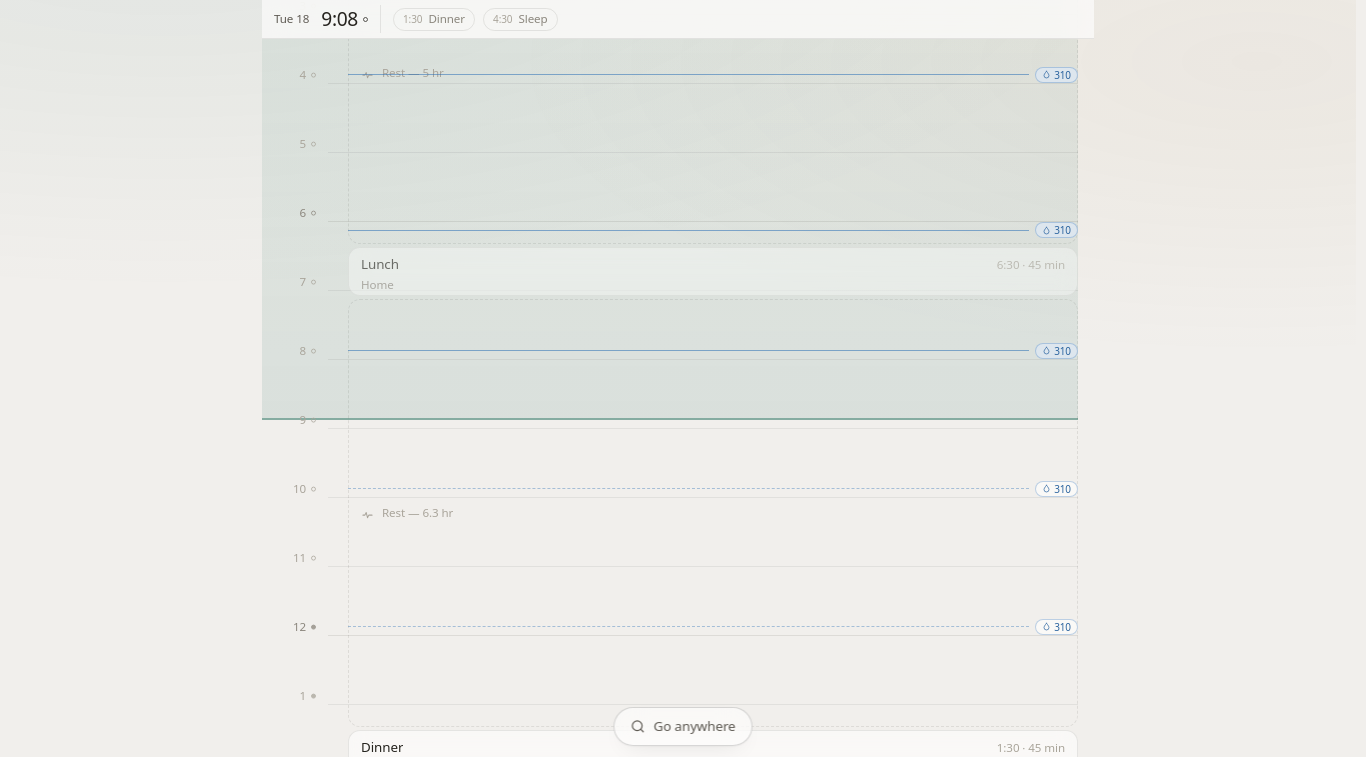
Test: nothing steals focus › still takes keys once you have opened it yourself
(page scrolled)
Click the button "Go anywhere": (683, 726) [614, 707, 753, 746]
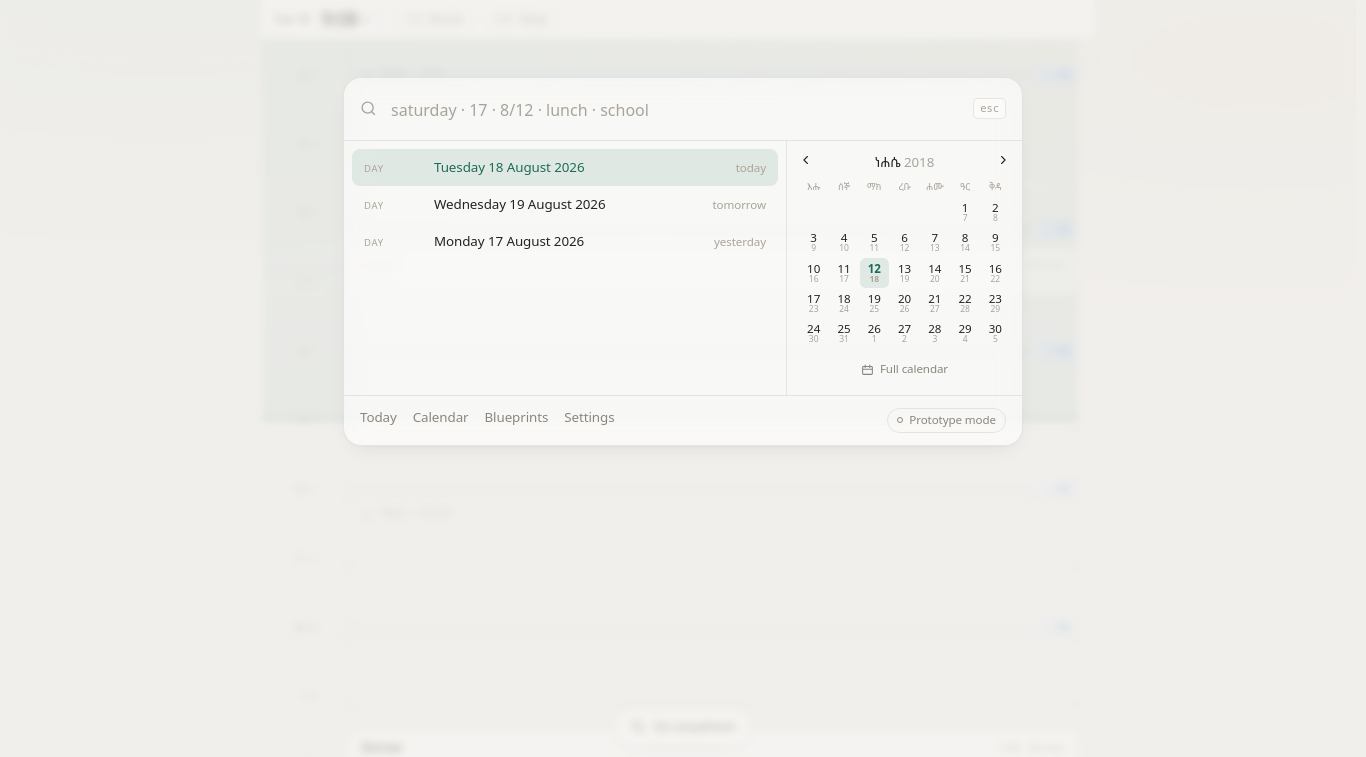
expect the dialog with class "go-panel" is shown: met, box [343, 77, 1023, 446]
Press Escape
(page scrolled)
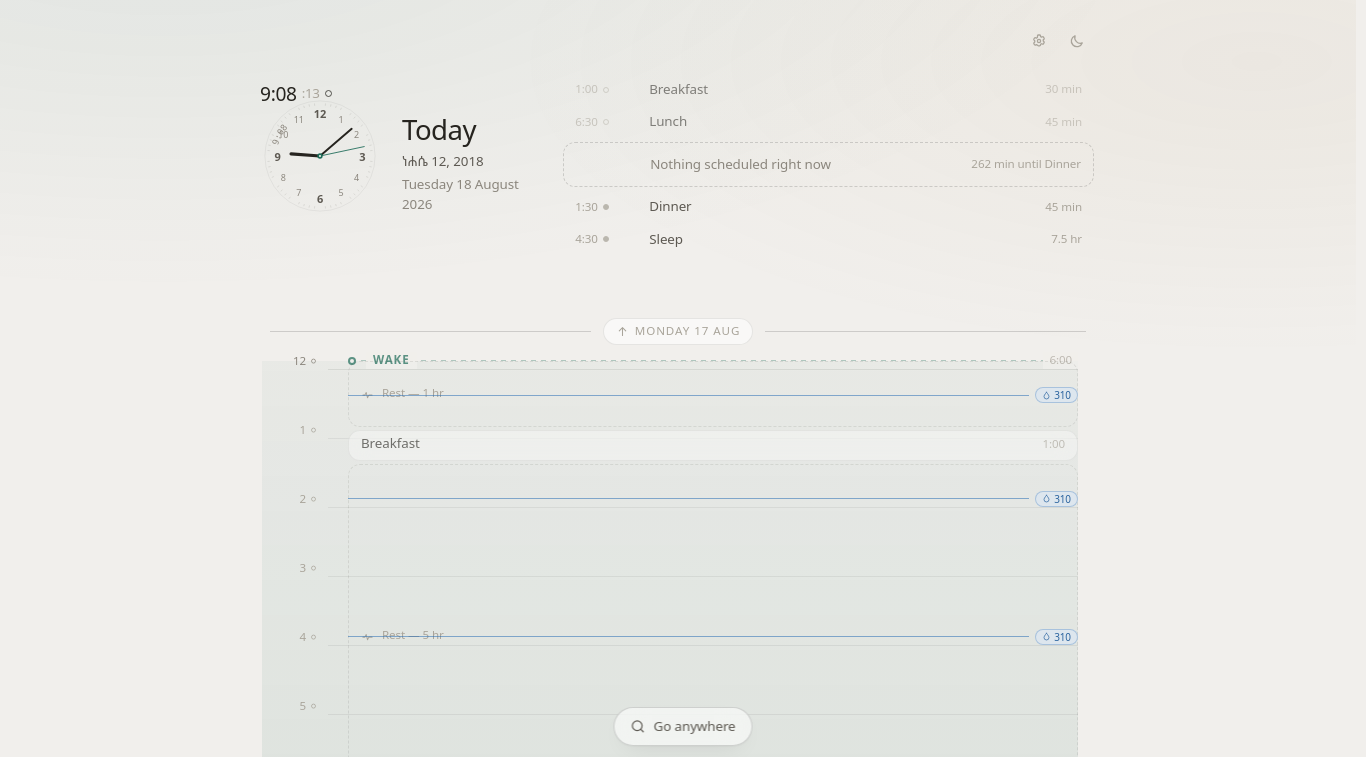
expect the dialog with class "go-panel" is gone: met
